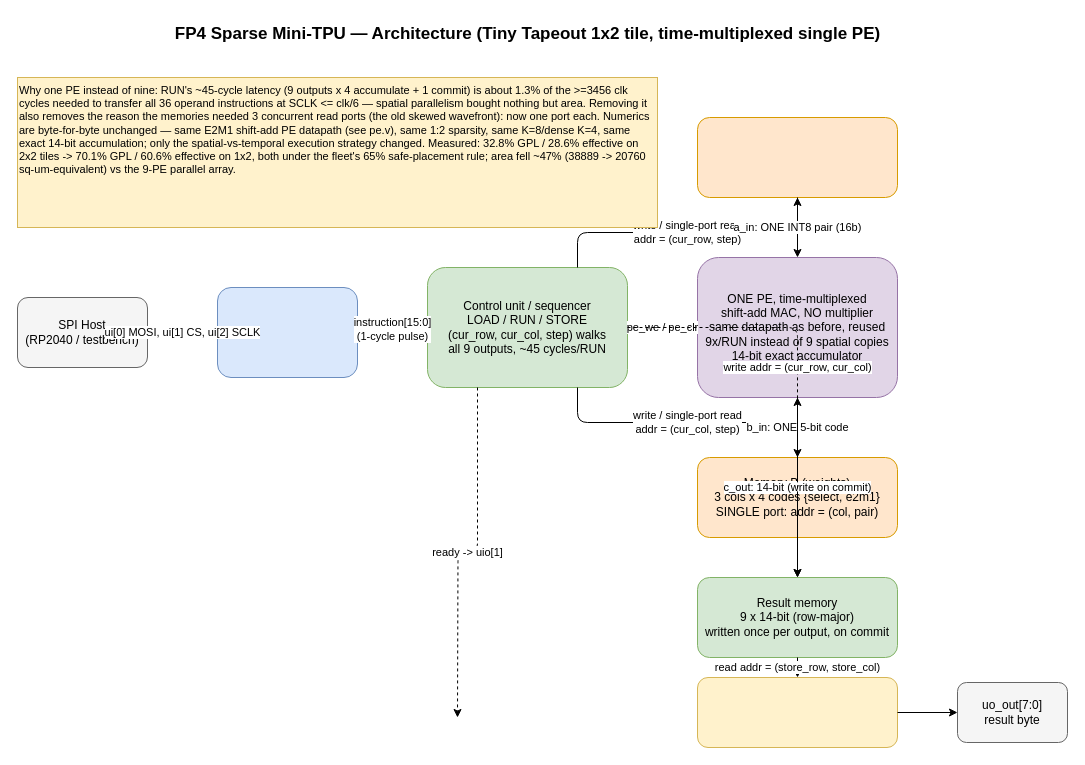
This 1085x765 diagram has some shape labels left out. Each missing label, with the centre of its shape:
Memory A (activations) 3 rows x 8 INT8 SINGLE port: addr = (row, pair): the point at 797,157
Result mux STORE {row, col, byte_sel} 14-bit acc -> 2 bytes: the point at 797,712
SPI slave 16-bit instruction (LSB-first, receive-only): the point at 287,332
